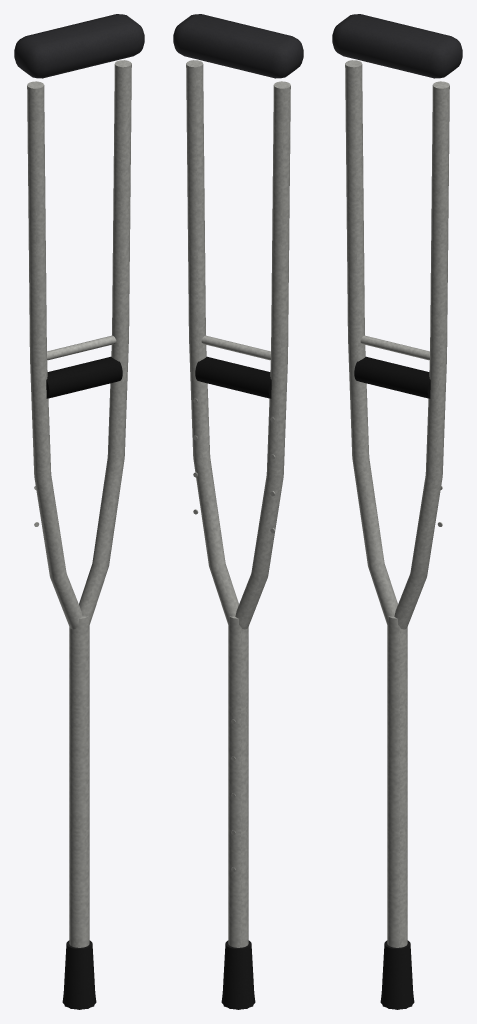
File: crutch.glb
3 renders of one model, left to right at view 1: azimuth 30°, elevation 25°; view 2: azimuth 150°, elevation 25°; view 3: azimuth 330°, elevation 25°, orthographic.
Visible parts, largest first — view 1: Crutch_Clean_frame, Crutch_Clean_pad, Crutch_Clean_grip, Crutch_Clean_tip; view 2: Crutch_Clean_frame, Crutch_Clean_pad, Crutch_Clean_grip, Crutch_Clean_tip; view 3: Crutch_Clean_frame, Crutch_Clean_pad, Crutch_Clean_grip, Crutch_Clean_tip.
Part boxes in pixels (x1=…): Crutch_Clean_frame: x1=27, y1=60, x2=131, y2=947; Crutch_Clean_pad: x1=14, y1=14, x2=144, y2=78; Crutch_Clean_grip: x1=46, y1=356, x2=122, y2=398; Crutch_Clean_tip: x1=62, y1=940, x2=96, y2=1009; Crutch_Clean_frame: x1=186, y1=60, x2=290, y2=947; Crutch_Clean_pad: x1=173, y1=14, x2=303, y2=78; Crutch_Clean_grip: x1=195, y1=356, x2=271, y2=398; Crutch_Clean_tip: x1=221, y1=940, x2=255, y2=1009; Crutch_Clean_frame: x1=345, y1=60, x2=449, y2=947; Crutch_Clean_pad: x1=332, y1=14, x2=462, y2=78; Crutch_Clean_grip: x1=354, y1=356, x2=430, y2=398; Crutch_Clean_tip: x1=380, y1=940, x2=414, y2=1009.
Size of the model in its own units: 0.165 by 1.32 by 0.06.
Materials: 4 (4 with a texture image).
